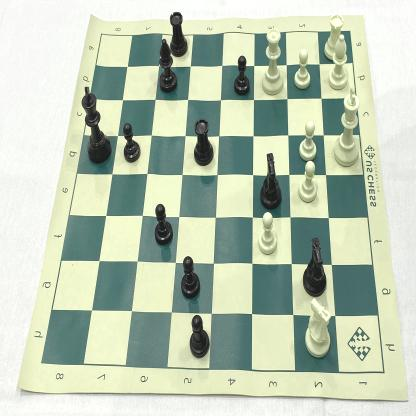black-bishop: (156, 34, 178, 98)
black-king: (78, 82, 113, 167), (297, 158, 320, 206)
black-knight: (298, 233, 329, 301), (258, 150, 284, 214)
black-pawn: (187, 311, 211, 360), (178, 253, 202, 301), (152, 200, 175, 249), (231, 53, 252, 98), (121, 119, 141, 166)
black-rook: (191, 115, 216, 170), (167, 5, 190, 61)
white-bishop: (327, 31, 351, 92)
white-king: (329, 85, 365, 169)
white-knight: (301, 295, 336, 361), (258, 23, 286, 98)
white-pawn: (255, 211, 280, 257), (292, 46, 313, 92), (298, 118, 319, 163)
white-rook: (321, 12, 346, 63)
